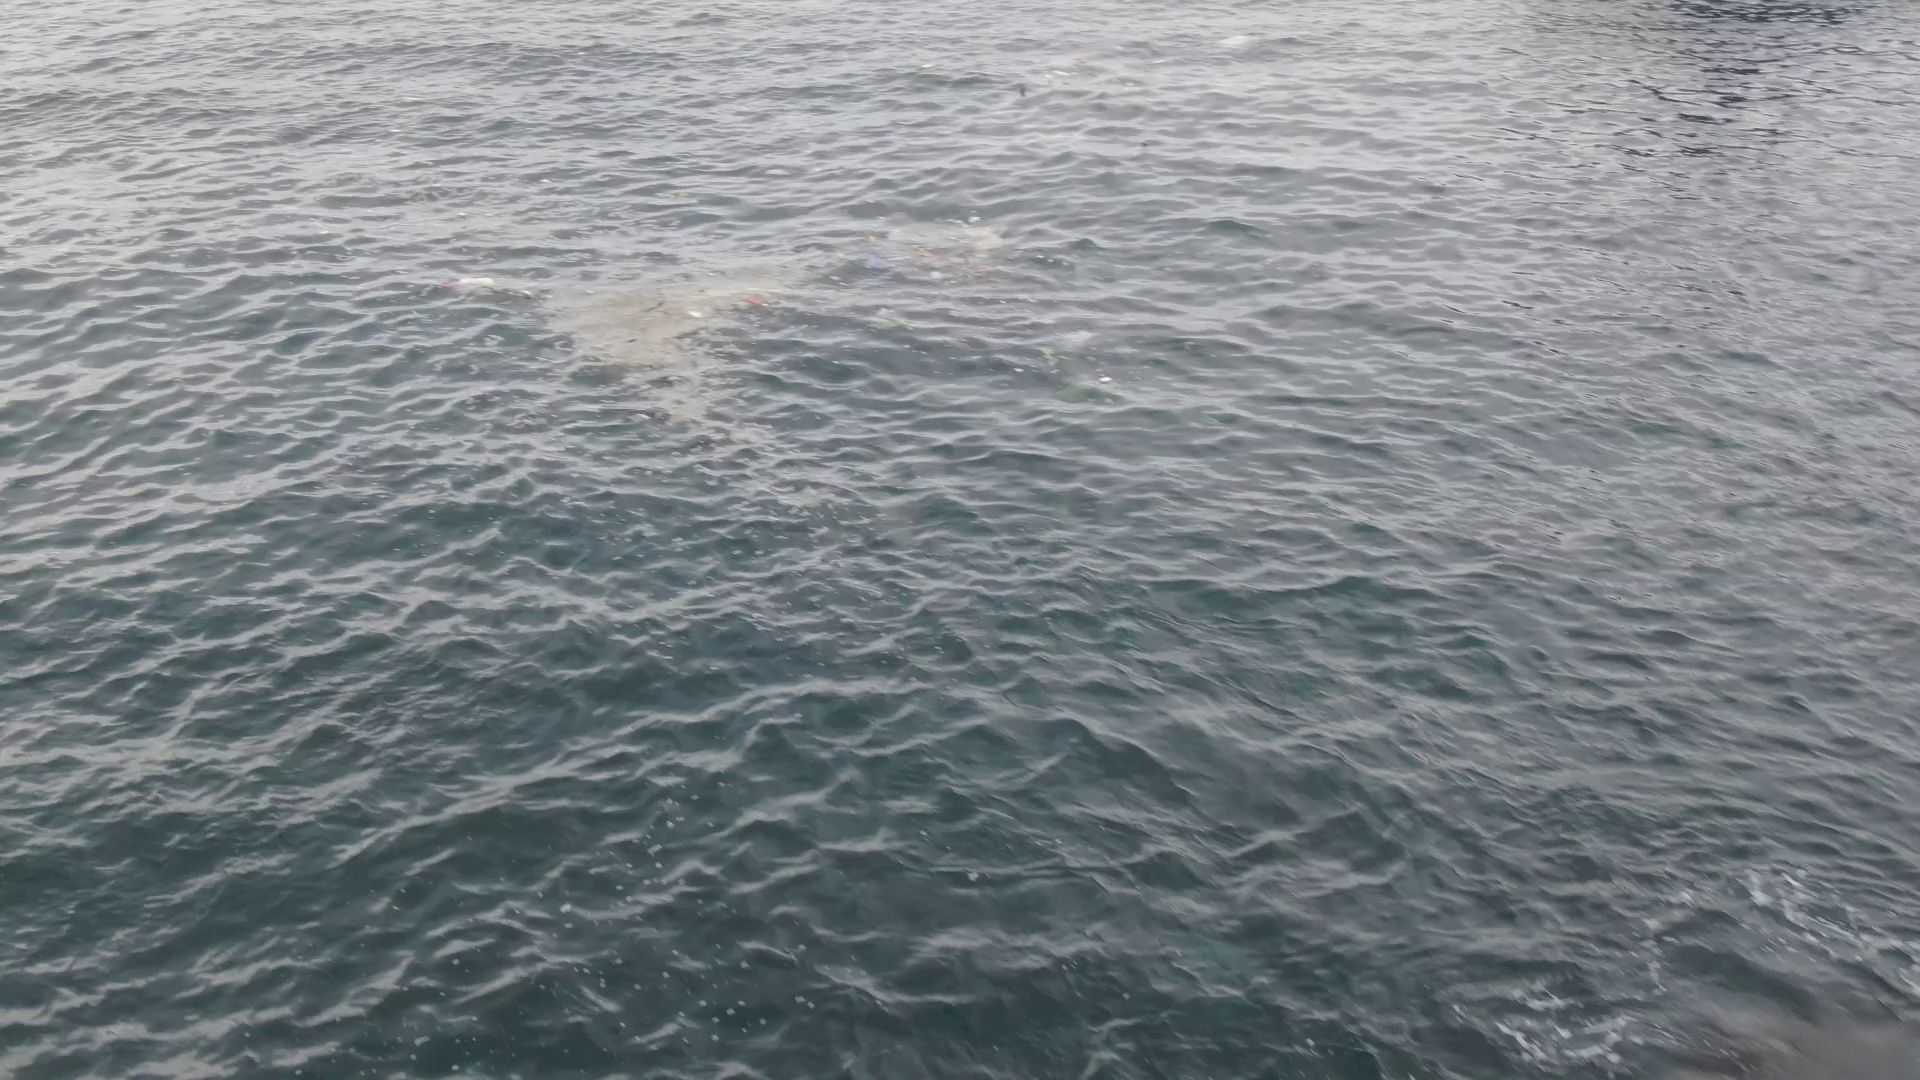garbage: (865, 251, 911, 268), (443, 276, 493, 287), (744, 291, 767, 307), (1097, 375, 1114, 384)
